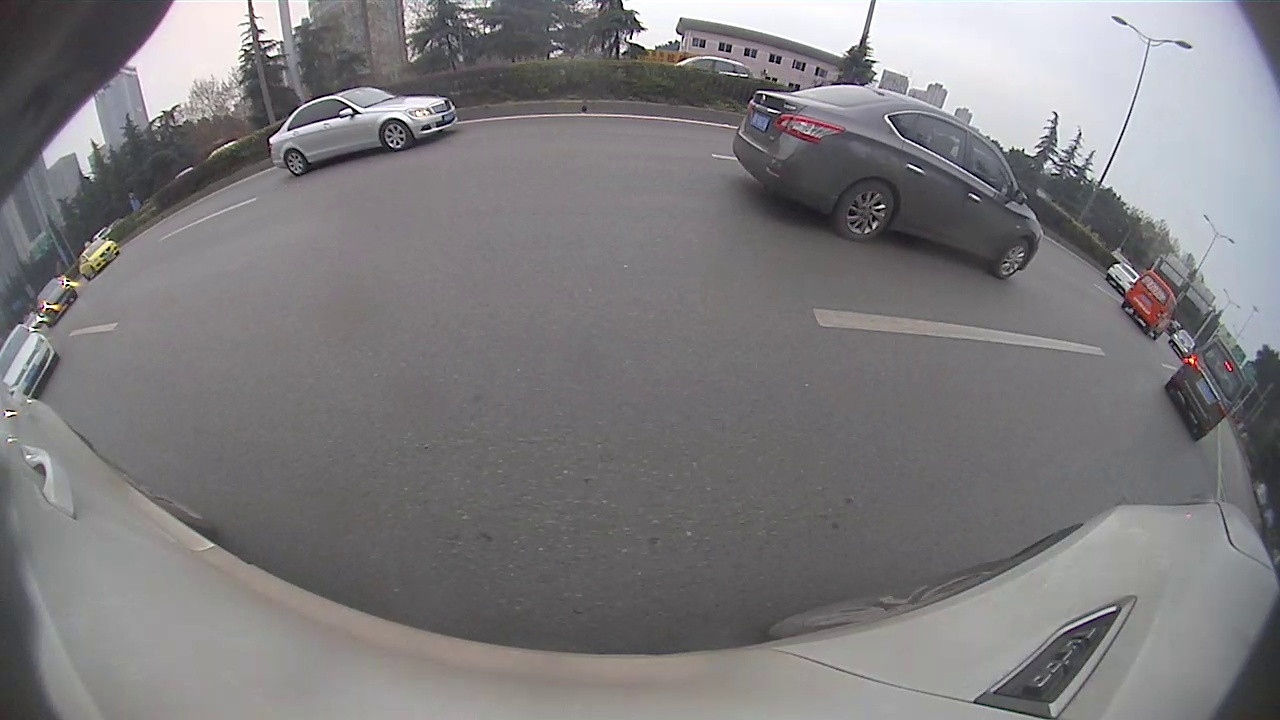car: (731, 83, 1043, 281), (267, 85, 462, 176), (1163, 335, 1246, 442), (1, 323, 56, 401), (1120, 267, 1177, 341), (1105, 261, 1141, 293)
front: (990, 239, 1034, 284), (377, 118, 415, 155)
rear: (832, 176, 897, 245), (281, 148, 311, 178)
